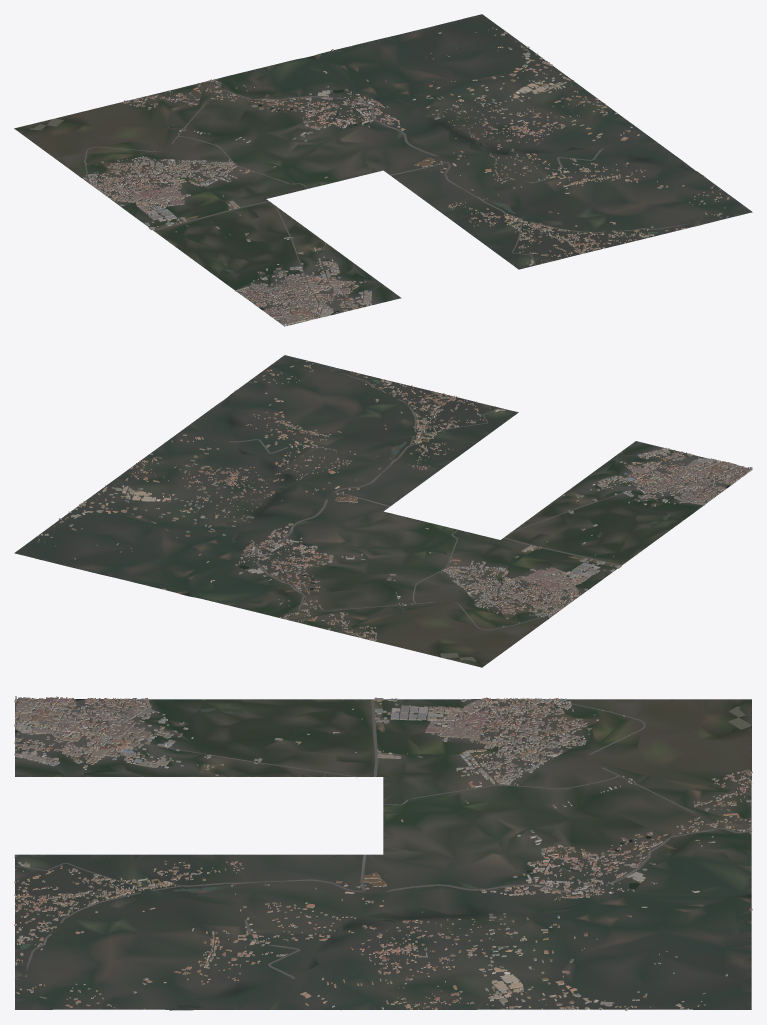
3 views of the same model, one above another, from view 1: azimuth 30°, elevation 25°; view 2: azimuth 150°, elevation 25°; view 3: azimuth 270°, elevation 25° (orthographic). The views are drawn at different scales.
Parts seen in each view (by area): view 1: ground, buildings, roads; view 2: ground, buildings, roads; view 3: ground, buildings, roads, water.
Part boxes in pixels (x1,y1,x2,y2): ground: (14,14,752,326); buildings: (82,27,729,326); roads: (84,79,707,318); ground: (14,355,752,667); buildings: (37,361,752,640); roads: (164,366,721,630); ground: (15,699,751,1010); buildings: (14,696,752,1010); roads: (14,699,751,1010); water: (15,699,751,976).
Size of the model in its own units: 5626 by 33.99 by 5623.
